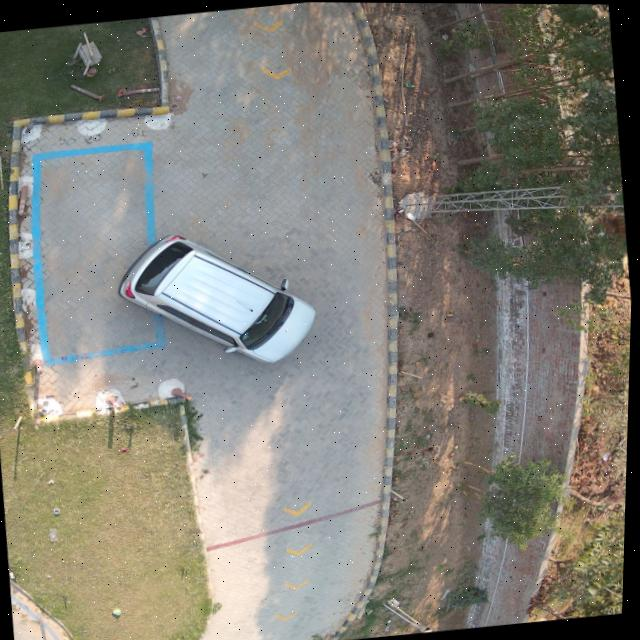car: (119, 235, 317, 363)
